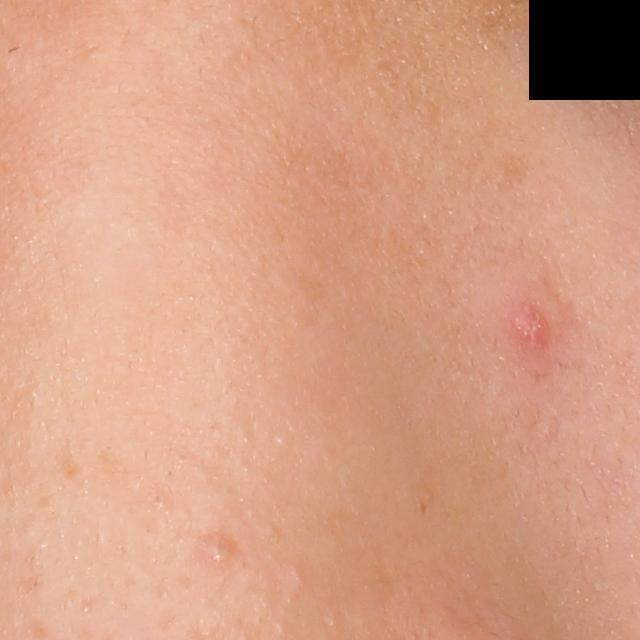papule: (501, 297, 564, 354), (199, 526, 239, 573)
